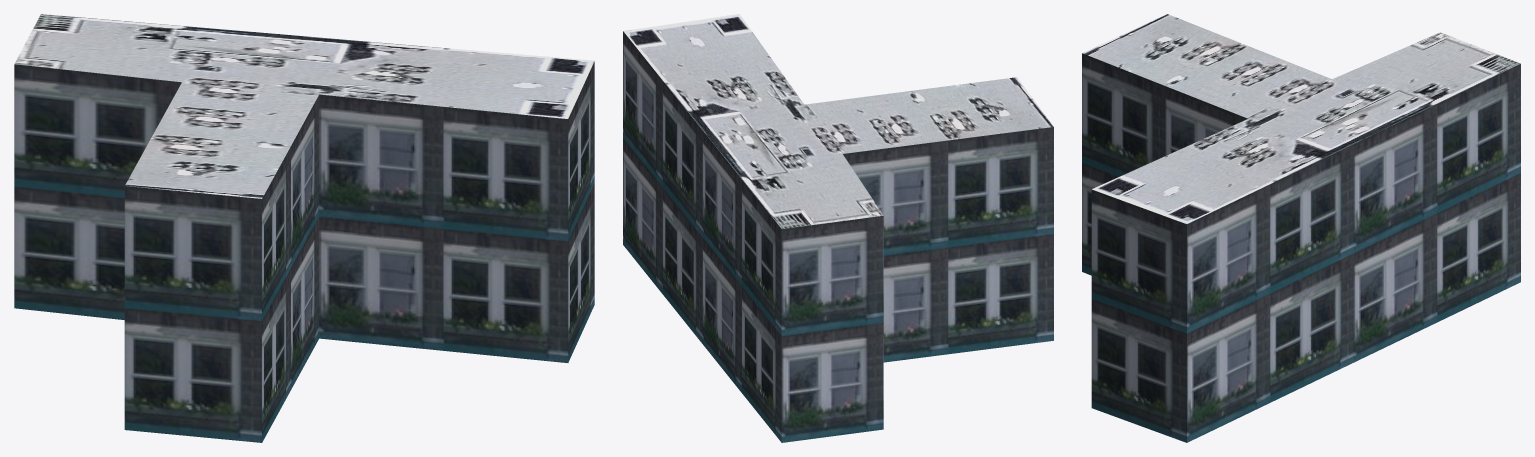
The model's file is ResTex__3429.fbx.
3 renders of one model, left to right at view 1: azimuth 30°, elevation 25°; view 2: azimuth 150°, elevation 25°; view 3: azimuth 270°, elevation 25°, orthographic. The views are drawn at different scales.
Visible parts, largest first — view 1: CityEngineMaterial_11_m, CityEngineMaterial_m; view 2: CityEngineMaterial_11_m, CityEngineMaterial_m; view 3: CityEngineMaterial_11_m, CityEngineMaterial_m.
Boxes of the visible parts, left/top/right/bottom form: CityEngineMaterial_11_m: left=14, top=61, right=594, bottom=442; CityEngineMaterial_m: left=14, top=14, right=594, bottom=198; CityEngineMaterial_11_m: left=623, top=31, right=1053, bottom=442; CityEngineMaterial_m: left=623, top=14, right=1053, bottom=228; CityEngineMaterial_11_m: left=1082, top=53, right=1520, bottom=442; CityEngineMaterial_m: left=1082, top=14, right=1520, bottom=223.
Size of the model in its own units: 12.37 by 6 by 10.91.
Materials: 2 (2 with a texture image).
